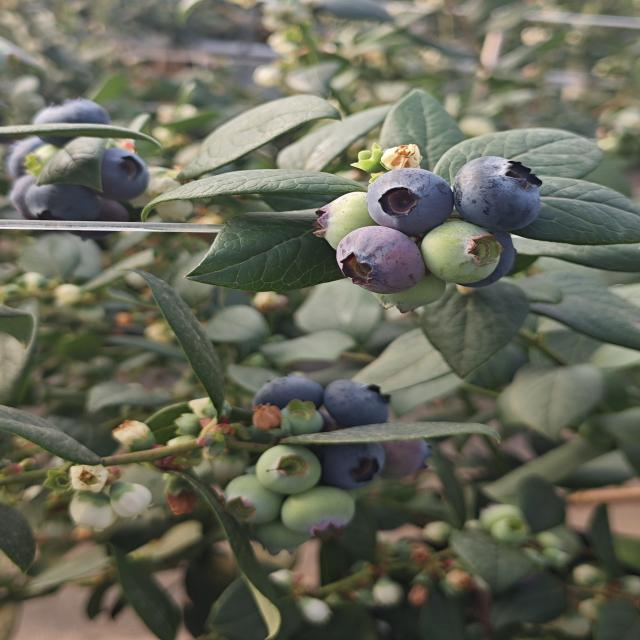ripe: (451, 154, 544, 234), (334, 224, 426, 296), (364, 166, 454, 236), (324, 374, 398, 434), (454, 221, 519, 289), (15, 177, 106, 221), (250, 370, 324, 424), (318, 442, 390, 484), (3, 134, 66, 182), (92, 144, 161, 182), (39, 103, 114, 134)
